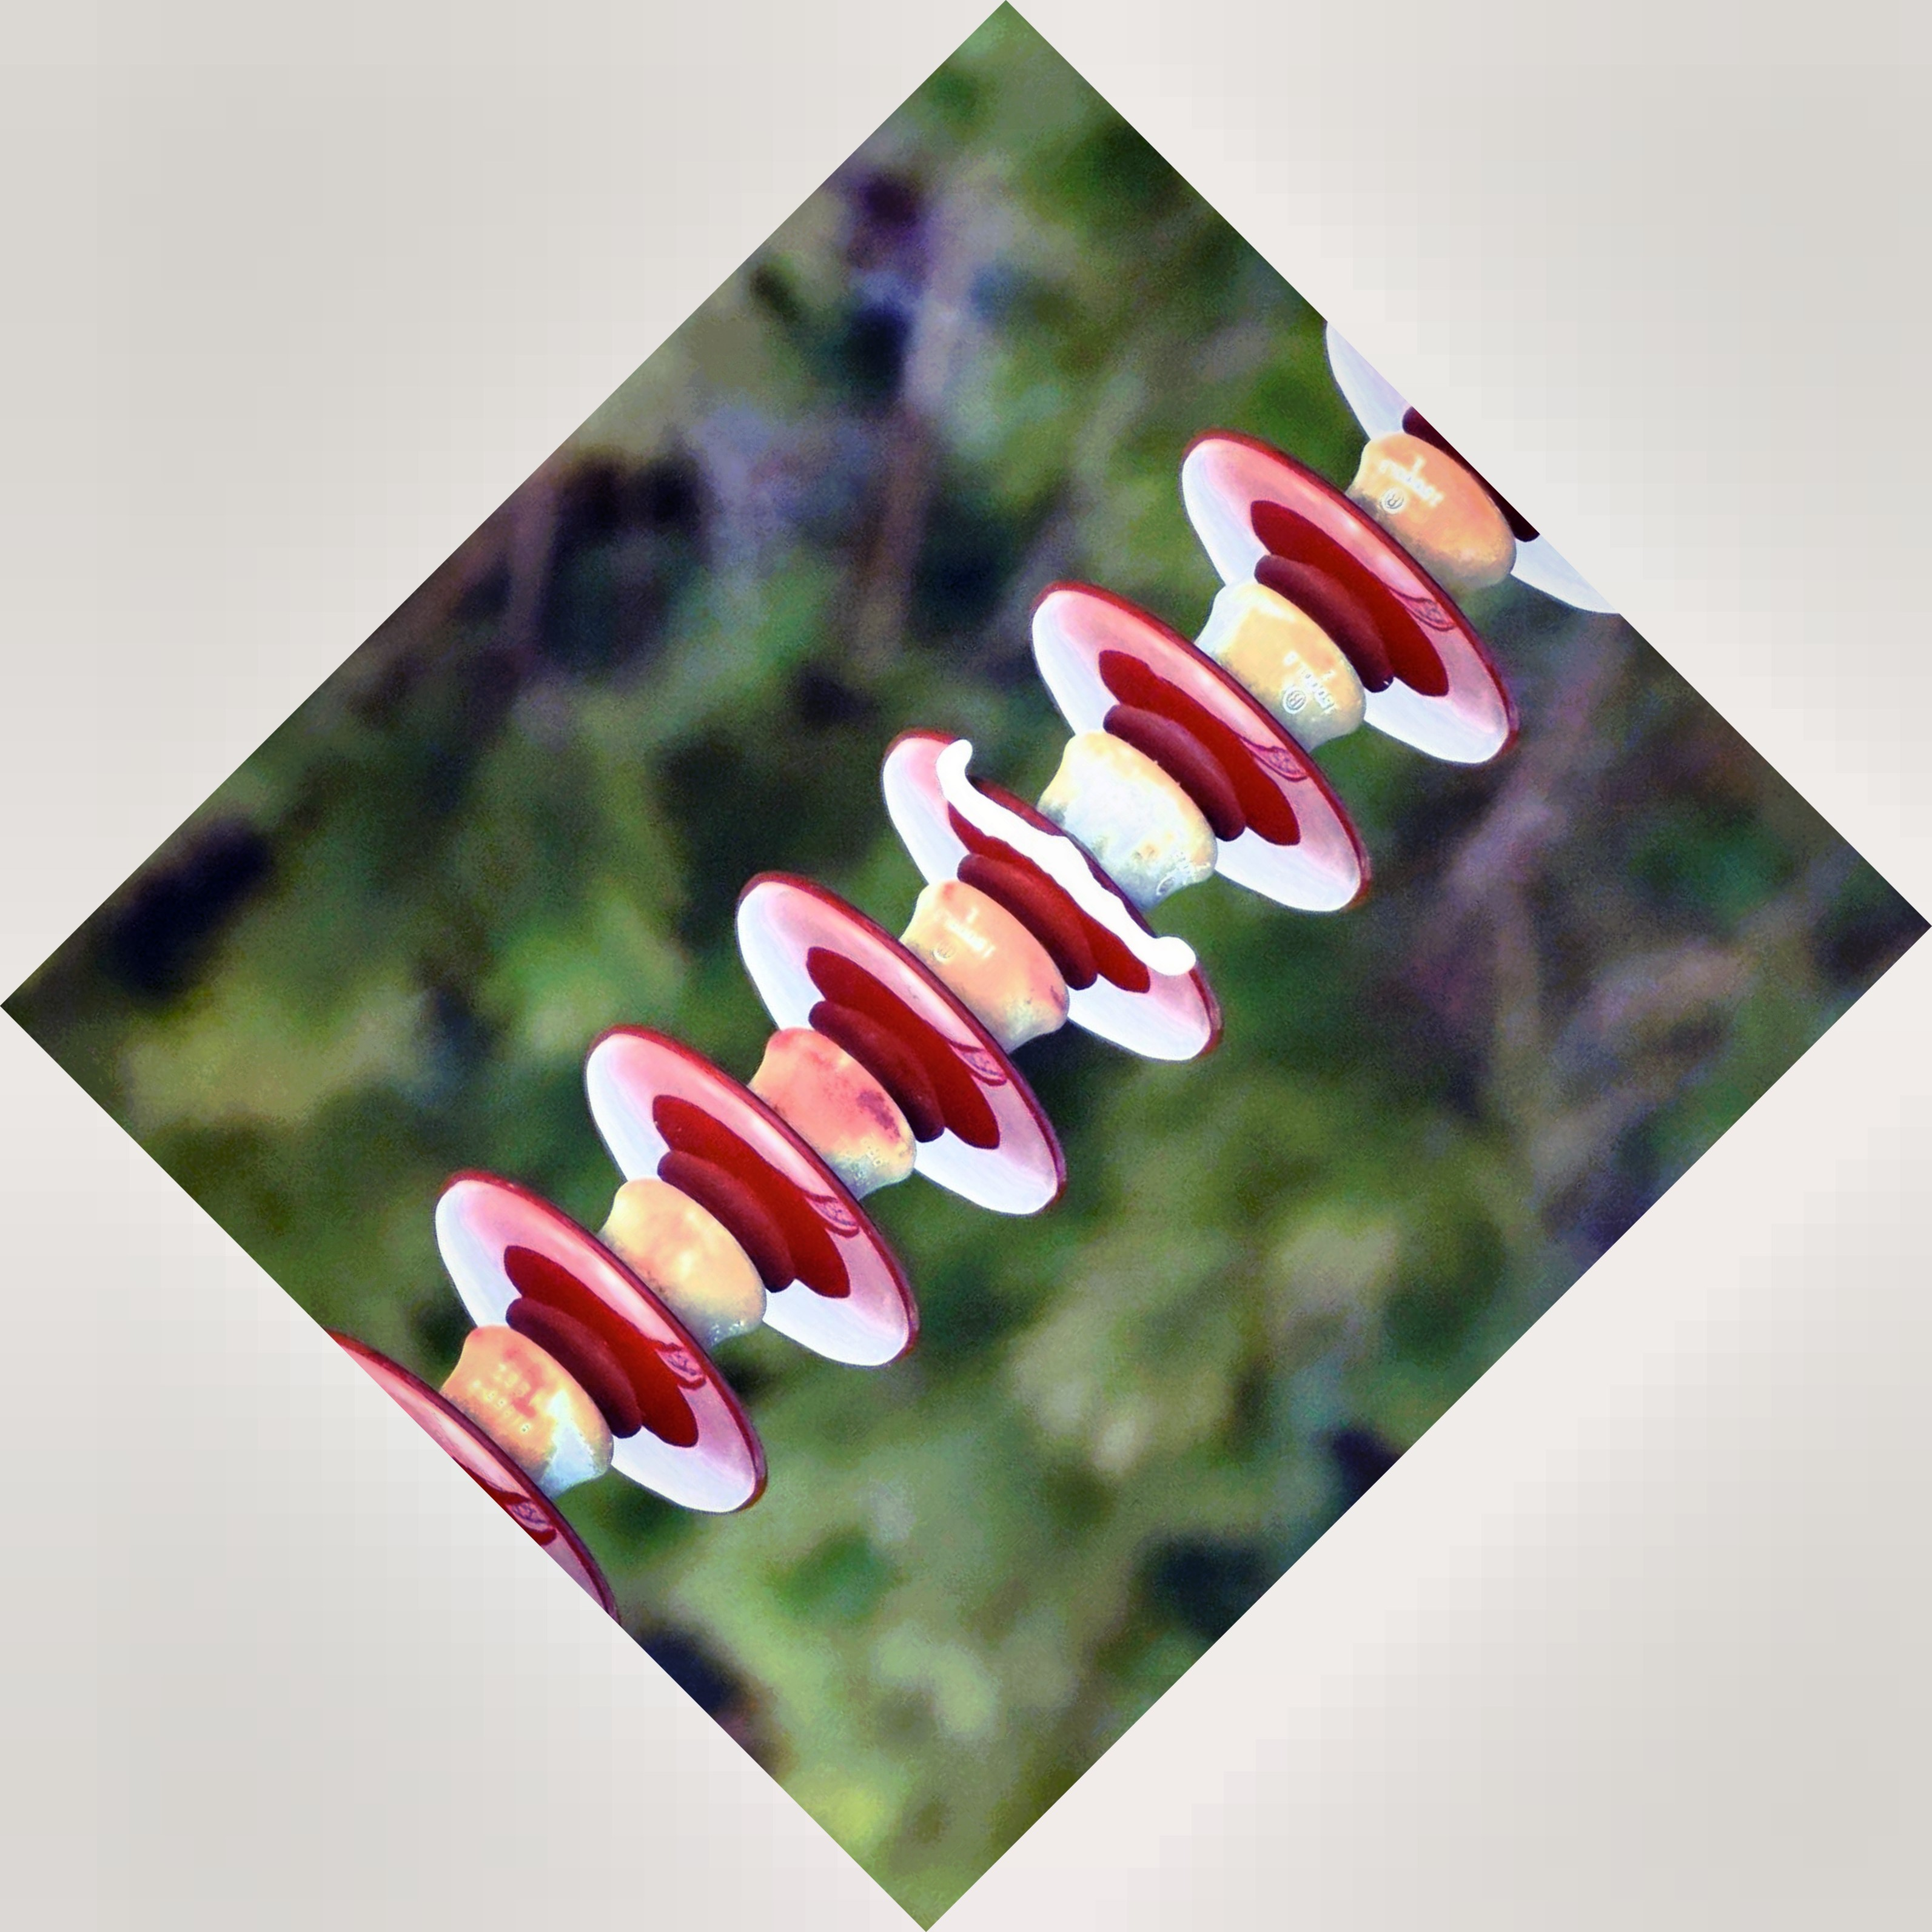insulator breakage: (878, 718, 1238, 1070)
